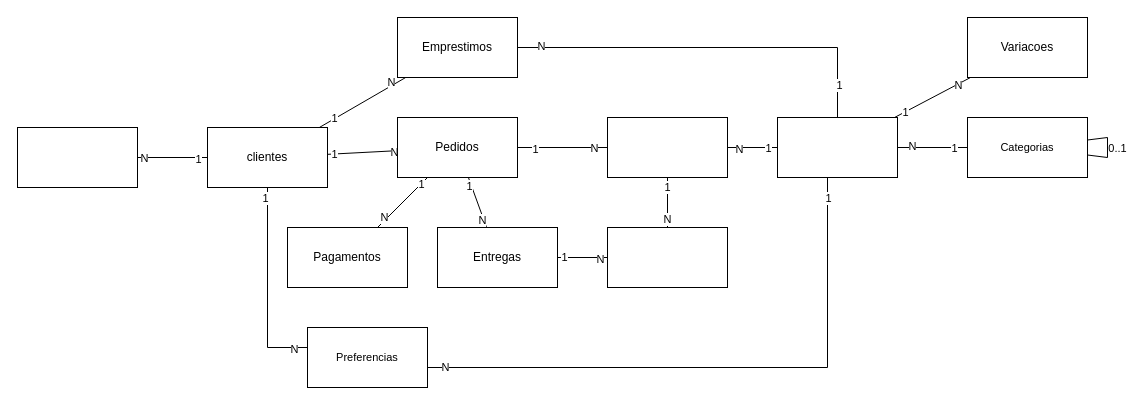
Some shapes in this 1144 by 405 pixel diagram are drawn without their labels. The centre of each missing label's shape, as x and y in pixels:
"enderecos" belongs at pixel 77 157.
"ItensCarrinho" belongs at pixel 667 147.
"ItensEntregas" belongs at pixel 667 257.
"Produtos" belongs at pixel 837 147.
